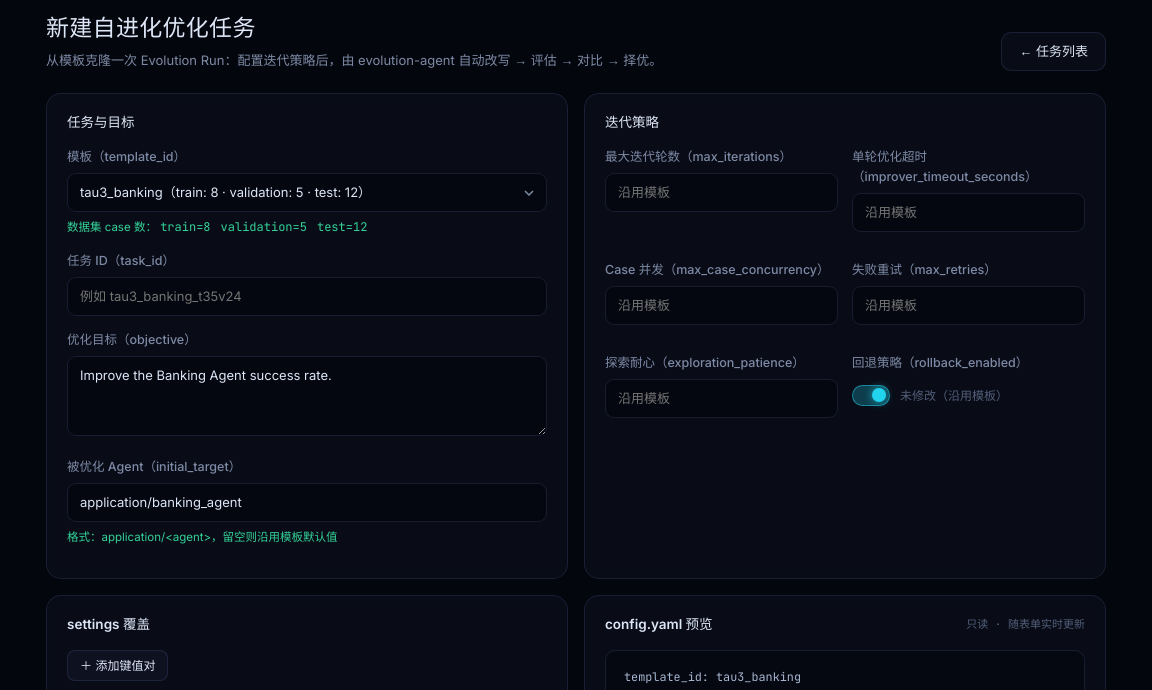
Test: EvolutionCreatePage › shows backend error message on conflict
Type "my_task" into the field with placeholder "例如 tau3_banking_t35v24".
click(307, 297); type("my_task")  # box [67,277,547,316]
(page scrolled)
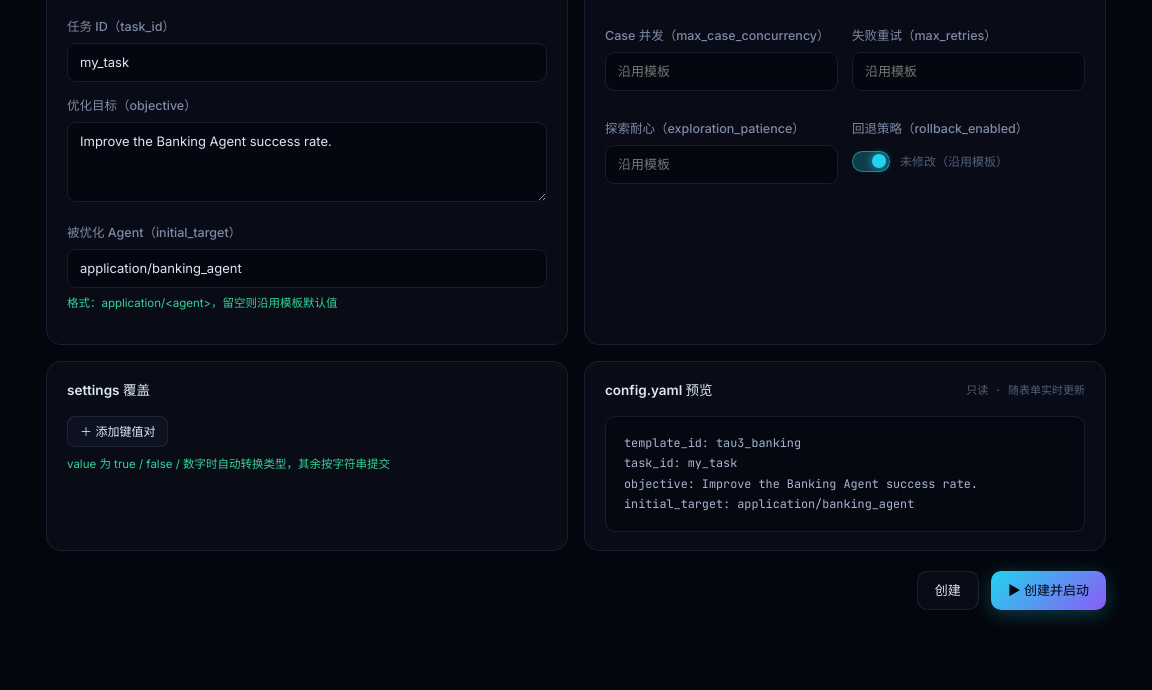
Click the button "创建".
click(948, 590)  # box [917,571,979,610]
(page scrolled)
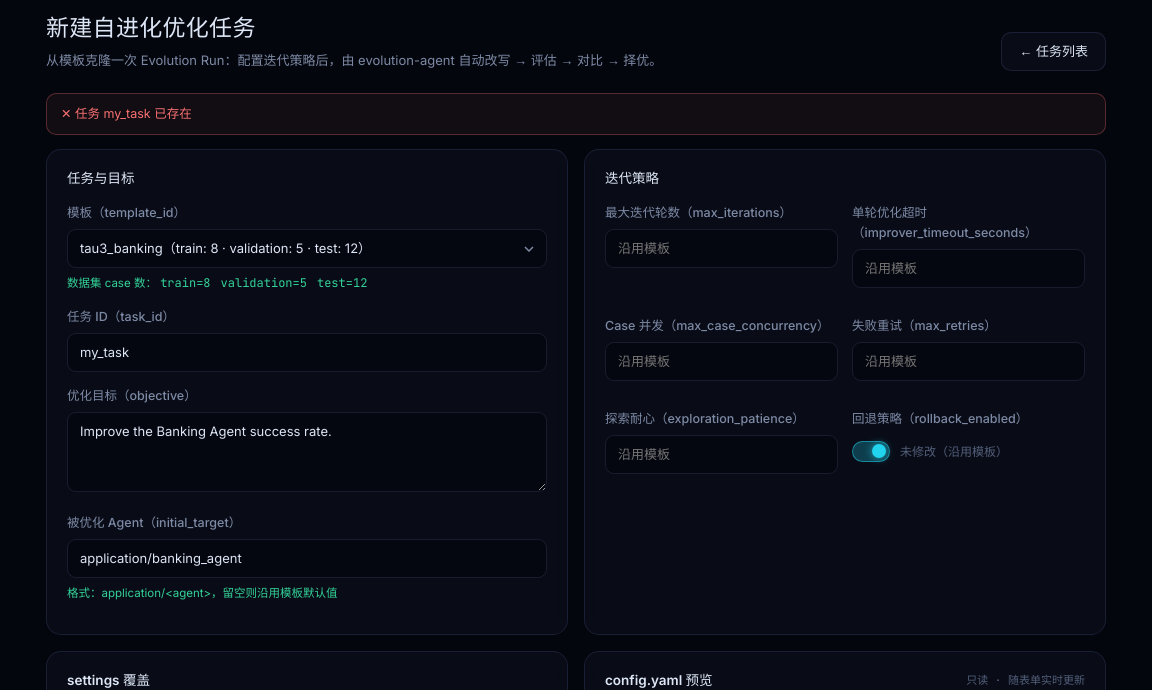
Expected: the message "✕ 任务 my_task 已存在" is shown, [46,93,1106,135]
